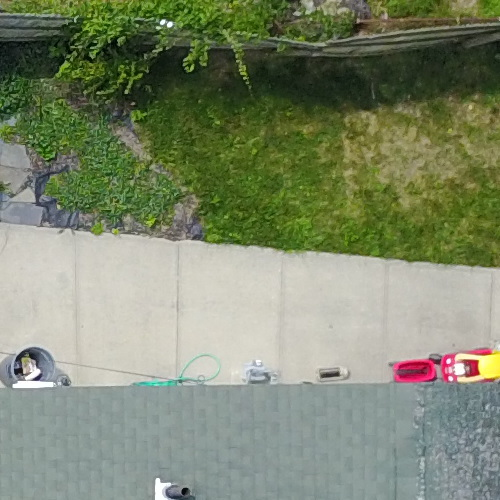container: (384, 355, 445, 386)
toy: (437, 338, 500, 387)
trash bin: (2, 339, 67, 402)
